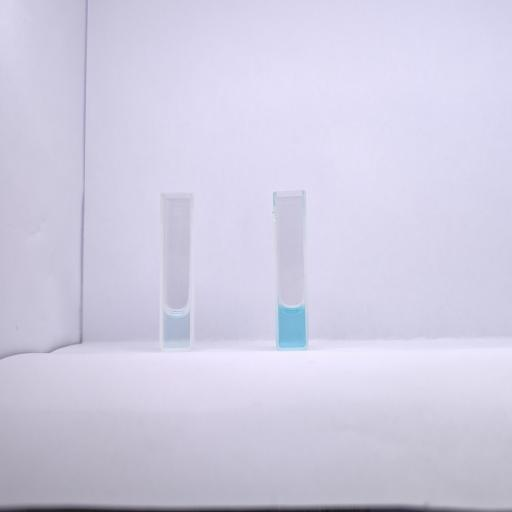cuvette: (157, 190, 196, 352), (272, 189, 310, 353)
liquid: (164, 307, 190, 348), (278, 306, 304, 346)
